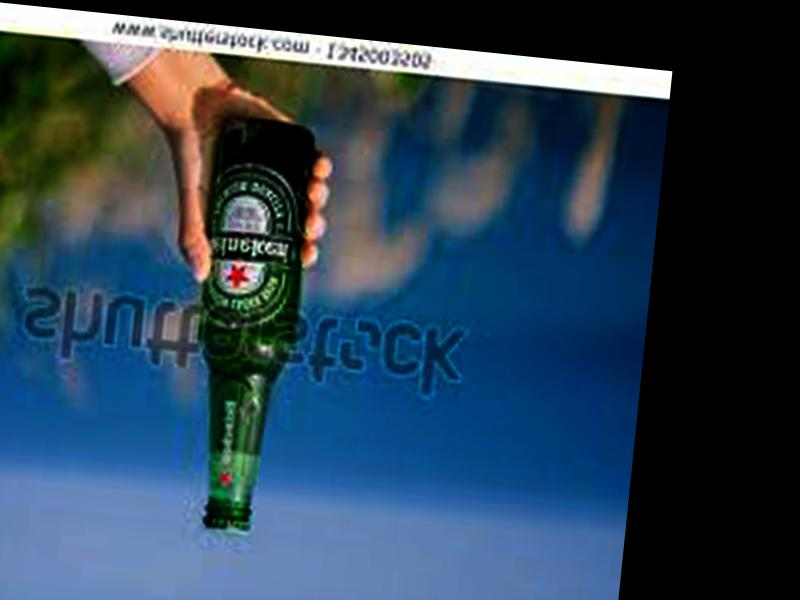Beer: (176, 114, 316, 536)
